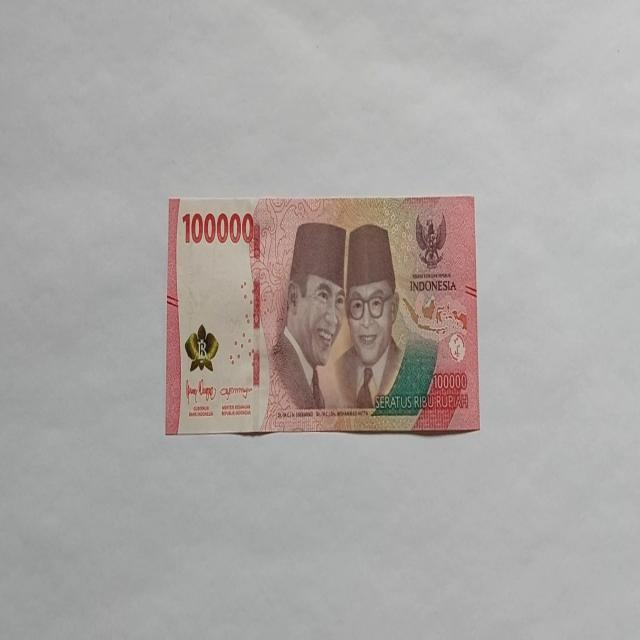seratus ribu rupiah: (165, 195, 480, 436), (262, 220, 348, 428)
